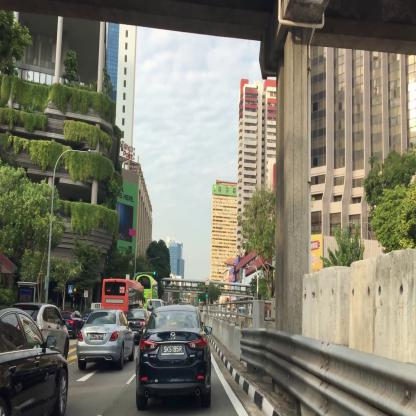green_traffic_light: (153, 272, 160, 276), (206, 288, 208, 296)
